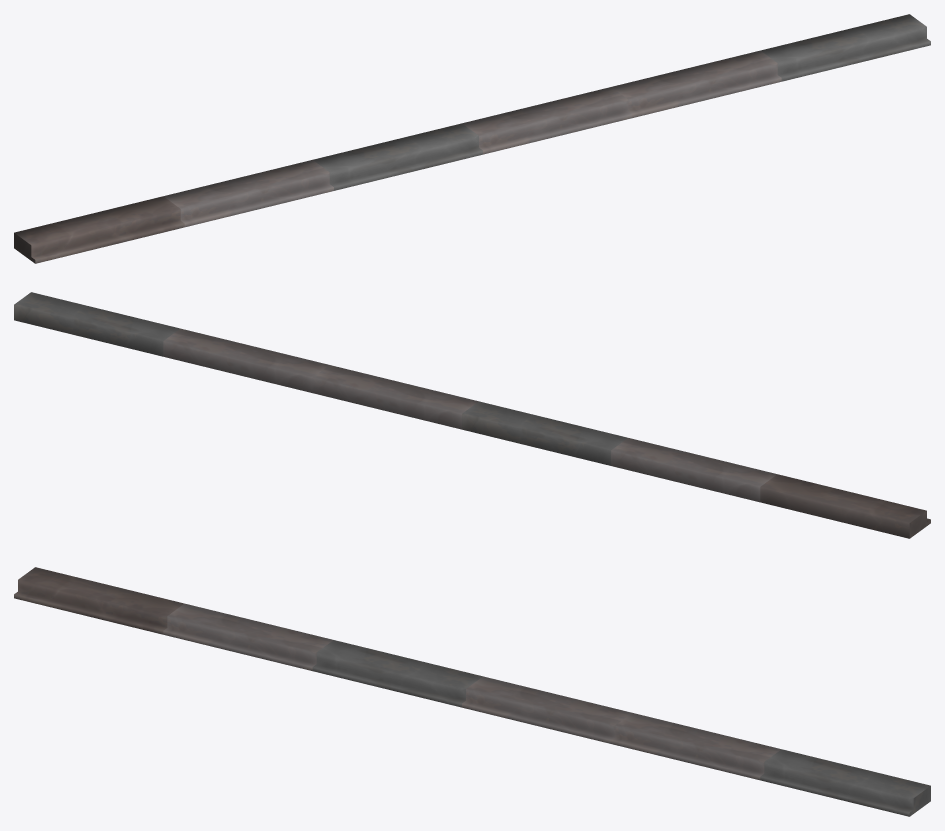
Rendered from Curb_12m.fbx.
The picture shows the model from 3 angles, top to bottom: view 1: azimuth 30°, elevation 25°; view 2: azimuth 150°, elevation 25°; view 3: azimuth 330°, elevation 25°; orthographic projection.
Visible parts, largest first — view 1: Curb_12m; view 2: Curb_12m; view 3: Curb_12m.
Boxes of the visible parts, x1,y1,x2,y2 form: Curb_12m: (14, 14, 930, 263); Curb_12m: (14, 292, 930, 538); Curb_12m: (14, 567, 930, 816).
Size of the model in its own units: 12 by 0.2 by 0.4948.
